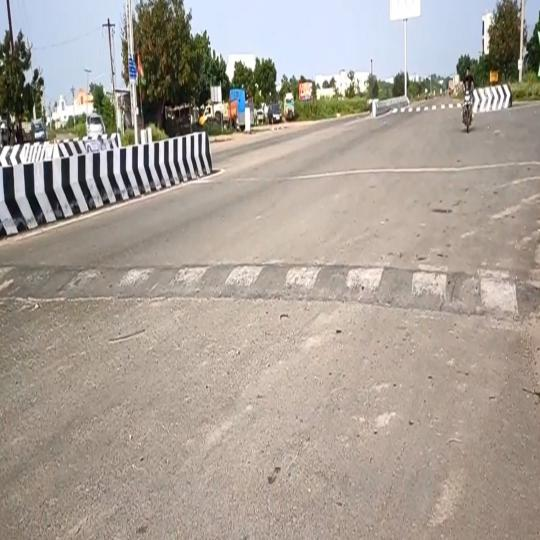Speed Bump: (0, 260, 540, 330), (391, 102, 460, 115)
